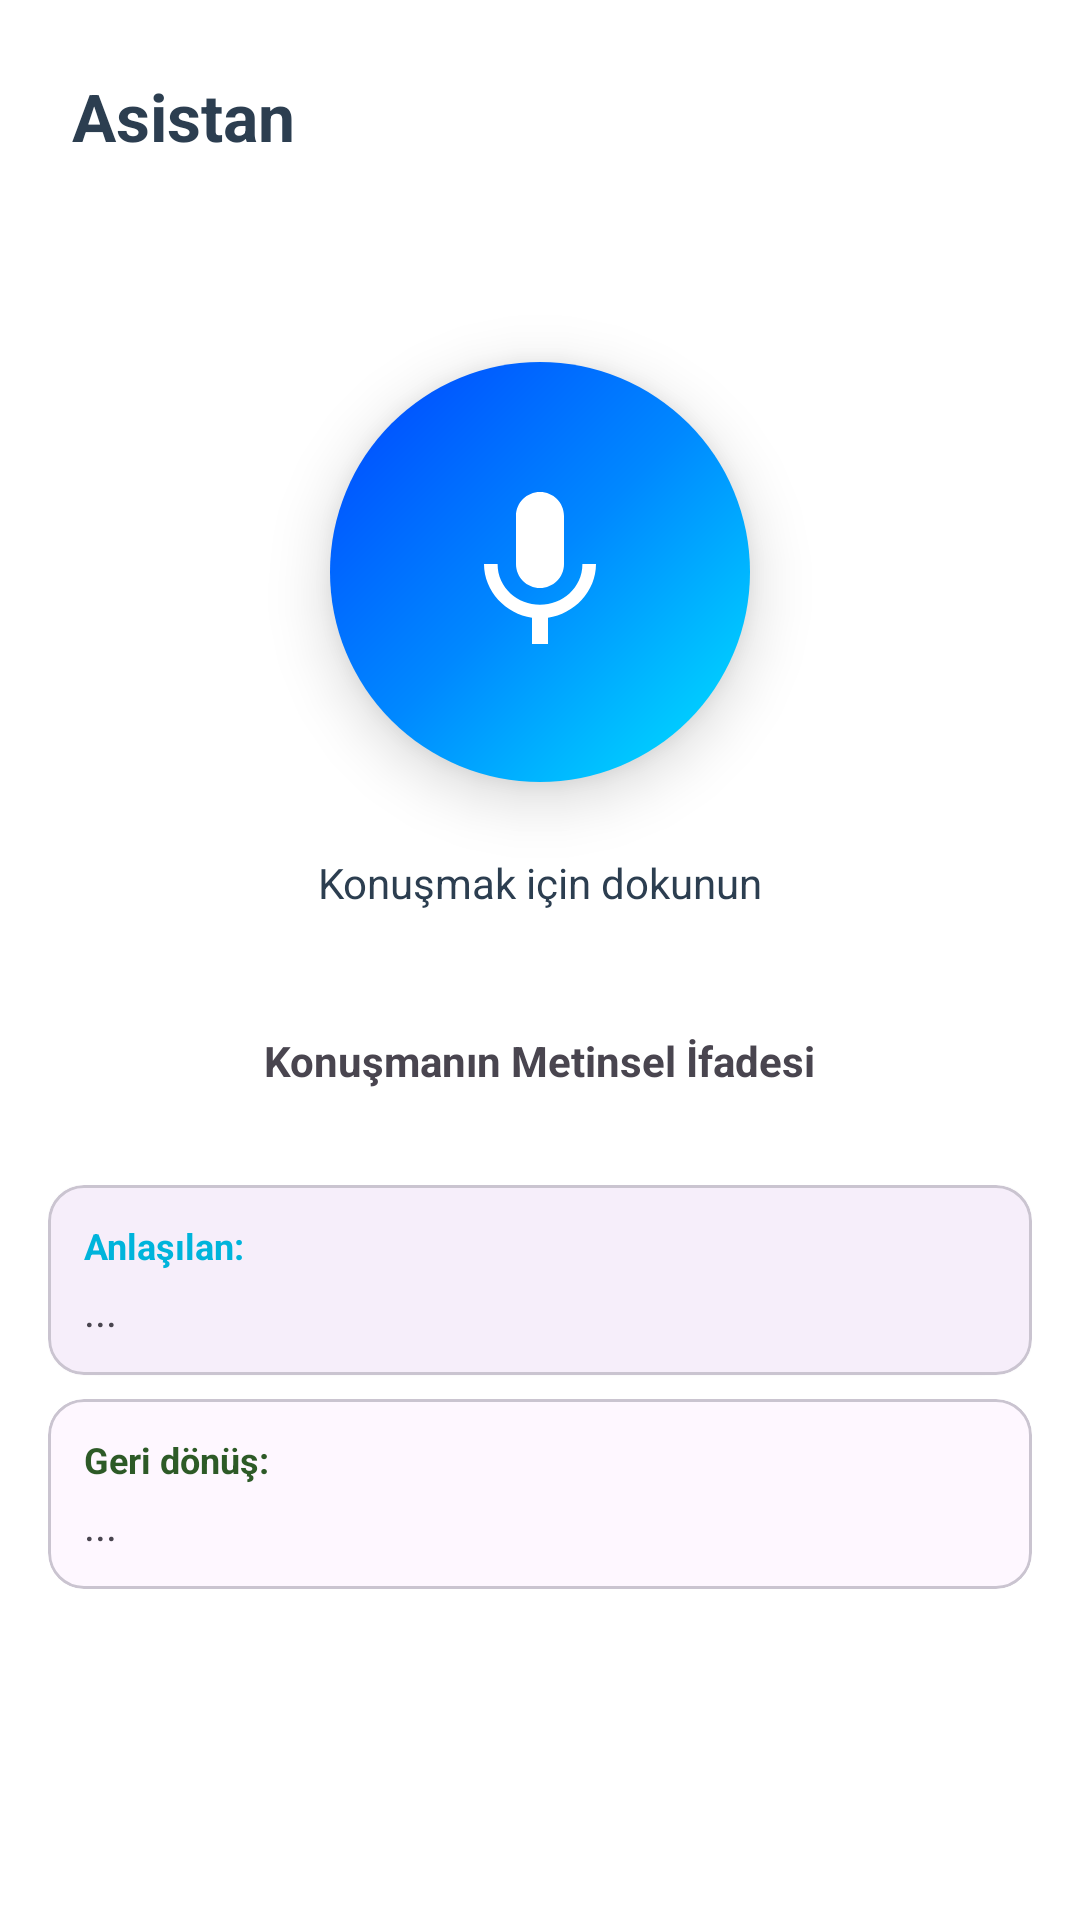

Where to tap for icons on this 1080×1920 app screen, as point (x, y):
mic modern: point (540, 572)
